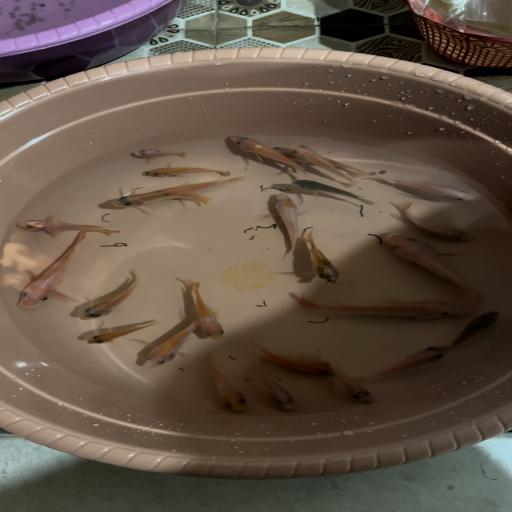nila: (377, 228, 485, 303), (6, 232, 94, 310), (292, 293, 467, 321), (72, 267, 150, 322), (388, 201, 477, 243), (358, 344, 454, 382), (127, 321, 200, 370), (244, 336, 338, 374), (225, 133, 308, 176), (198, 353, 252, 414), (287, 142, 359, 186), (266, 145, 371, 175), (374, 176, 476, 204), (299, 228, 344, 290), (187, 280, 229, 342), (251, 368, 307, 414), (16, 213, 122, 236), (267, 193, 304, 258), (292, 178, 376, 206), (82, 320, 158, 348), (106, 192, 212, 212), (453, 310, 503, 351), (137, 163, 231, 183), (332, 366, 376, 408), (143, 176, 247, 192), (128, 147, 189, 162)
